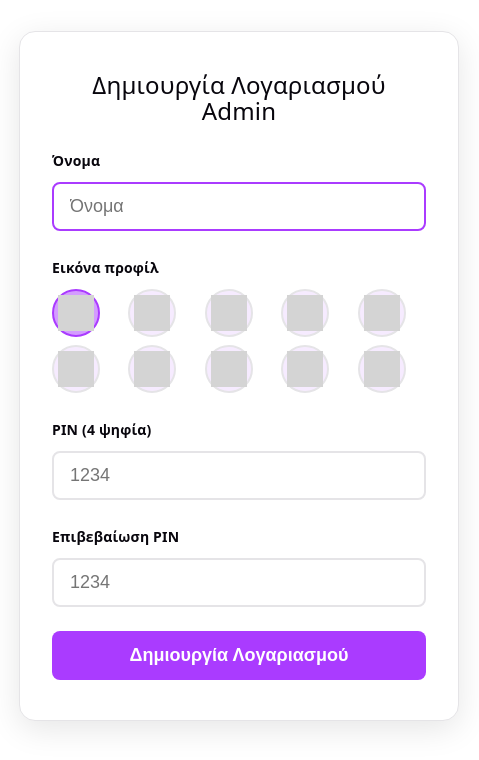
Test: Setup › shows error for non-4-digit PIN
Type "Dad" into the field with placeholder "Όνομα" at (239,206), box [52, 182, 426, 231]
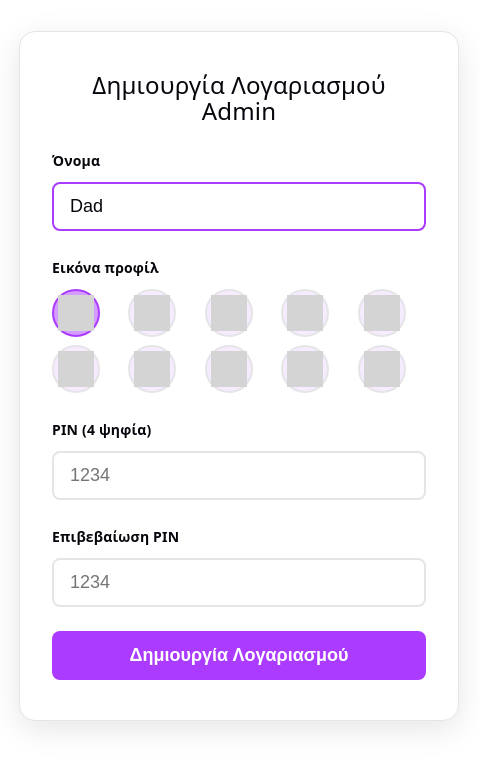
Type "12" into the password field with placeholder "1234" at (239,476), box [52, 451, 426, 500]
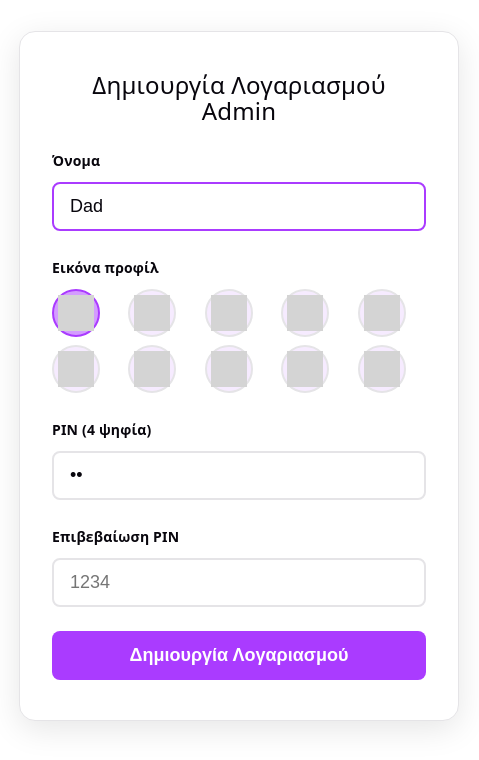
Type "12" into the password field with placeholder "1234" at (239,583), box [52, 558, 426, 607]
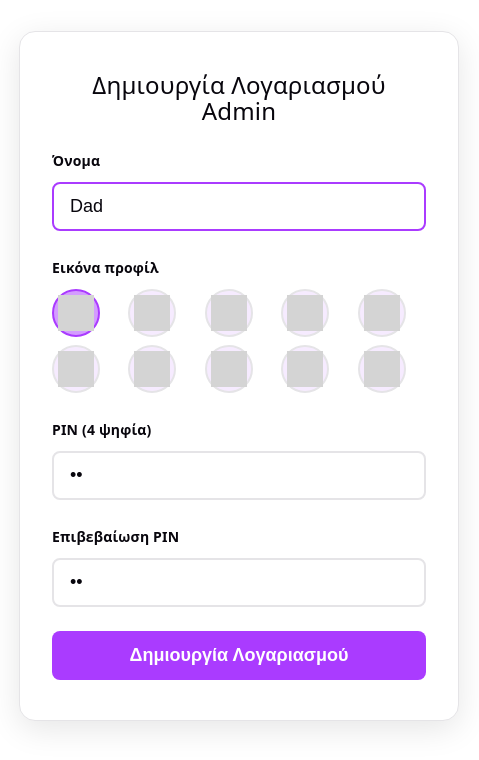
Click the button "Δημιουργία Λογαριασμού" at (239,656), box [52, 631, 426, 680]
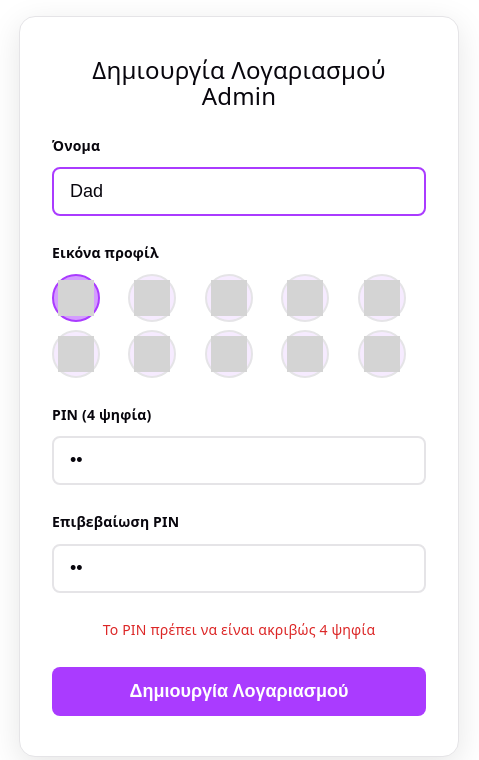
Expected: the text "Το PIN πρέπει να είναι ακριβώς 4 ψηφία" is shown, [103, 620, 375, 639]
